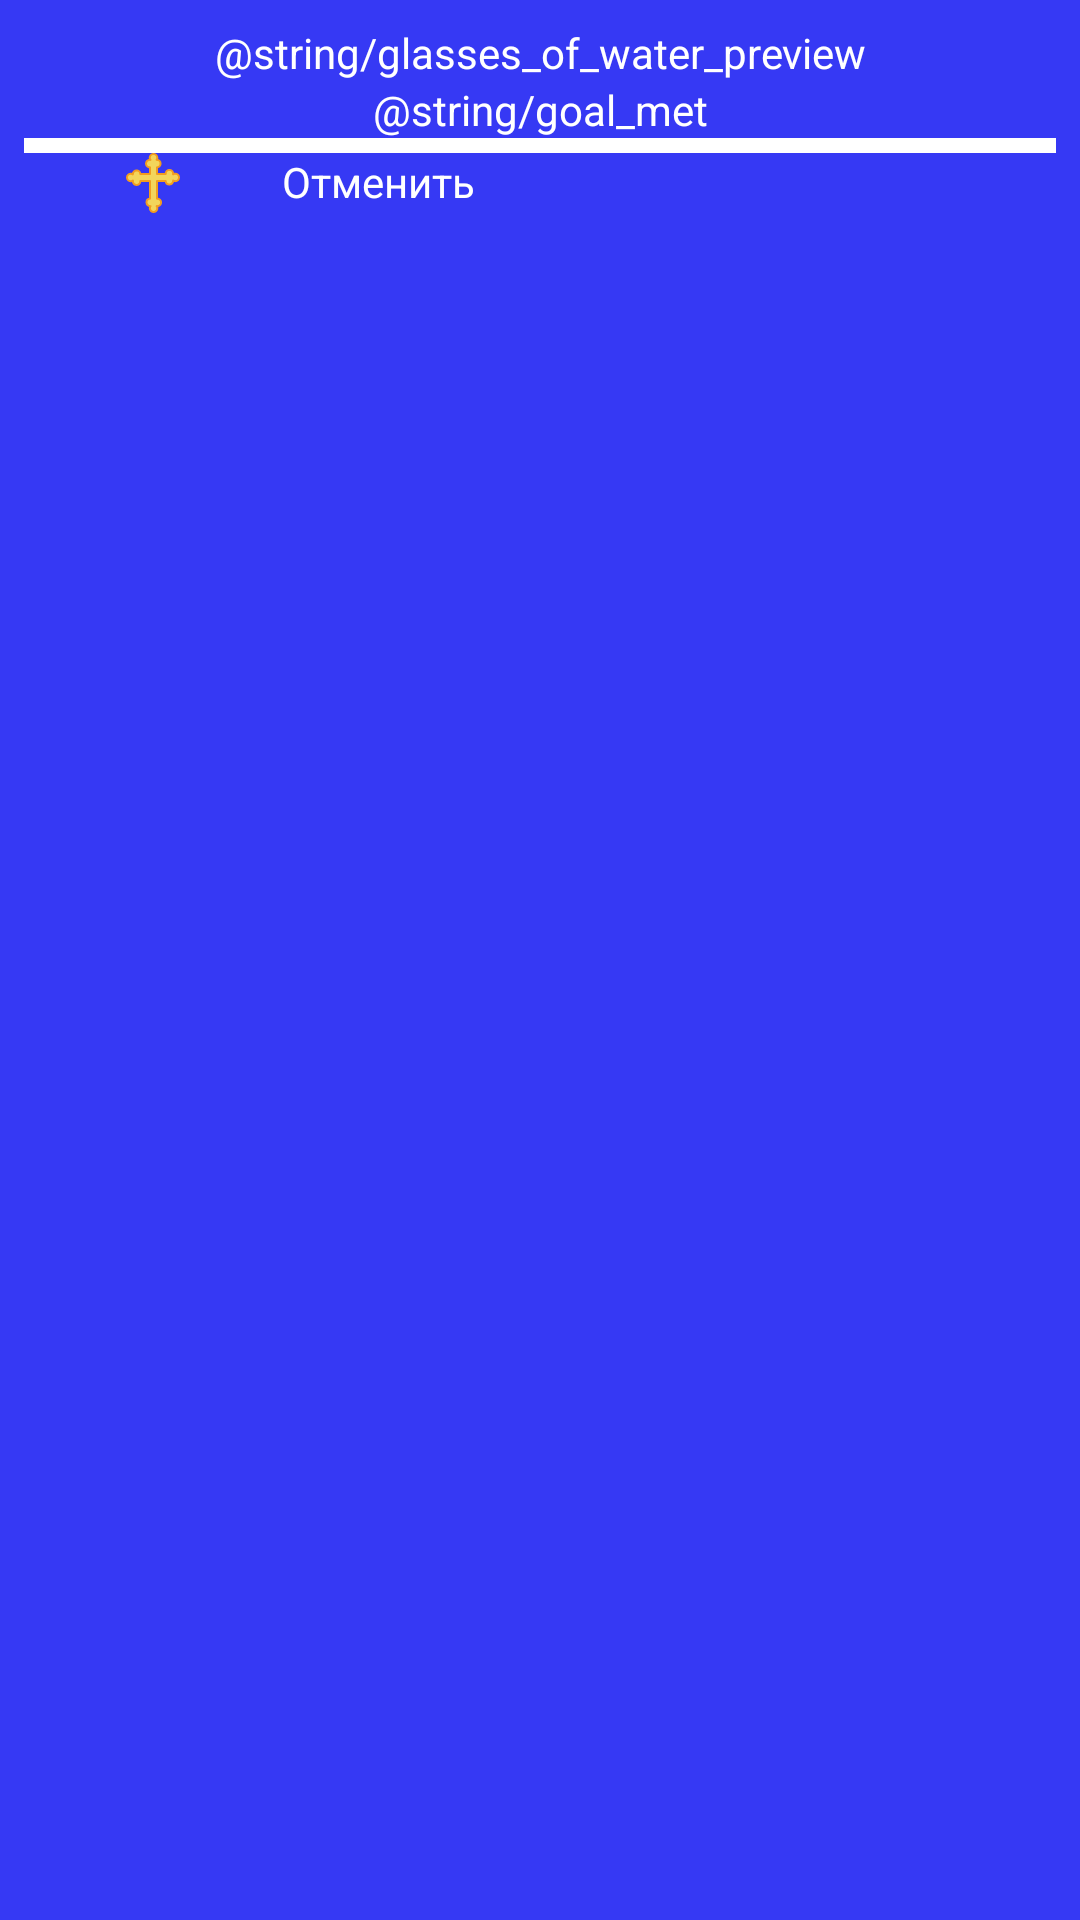

Icon click points for this 1080 x 1920 phone screenshot, format [x,y]:
cross: [153,183]
